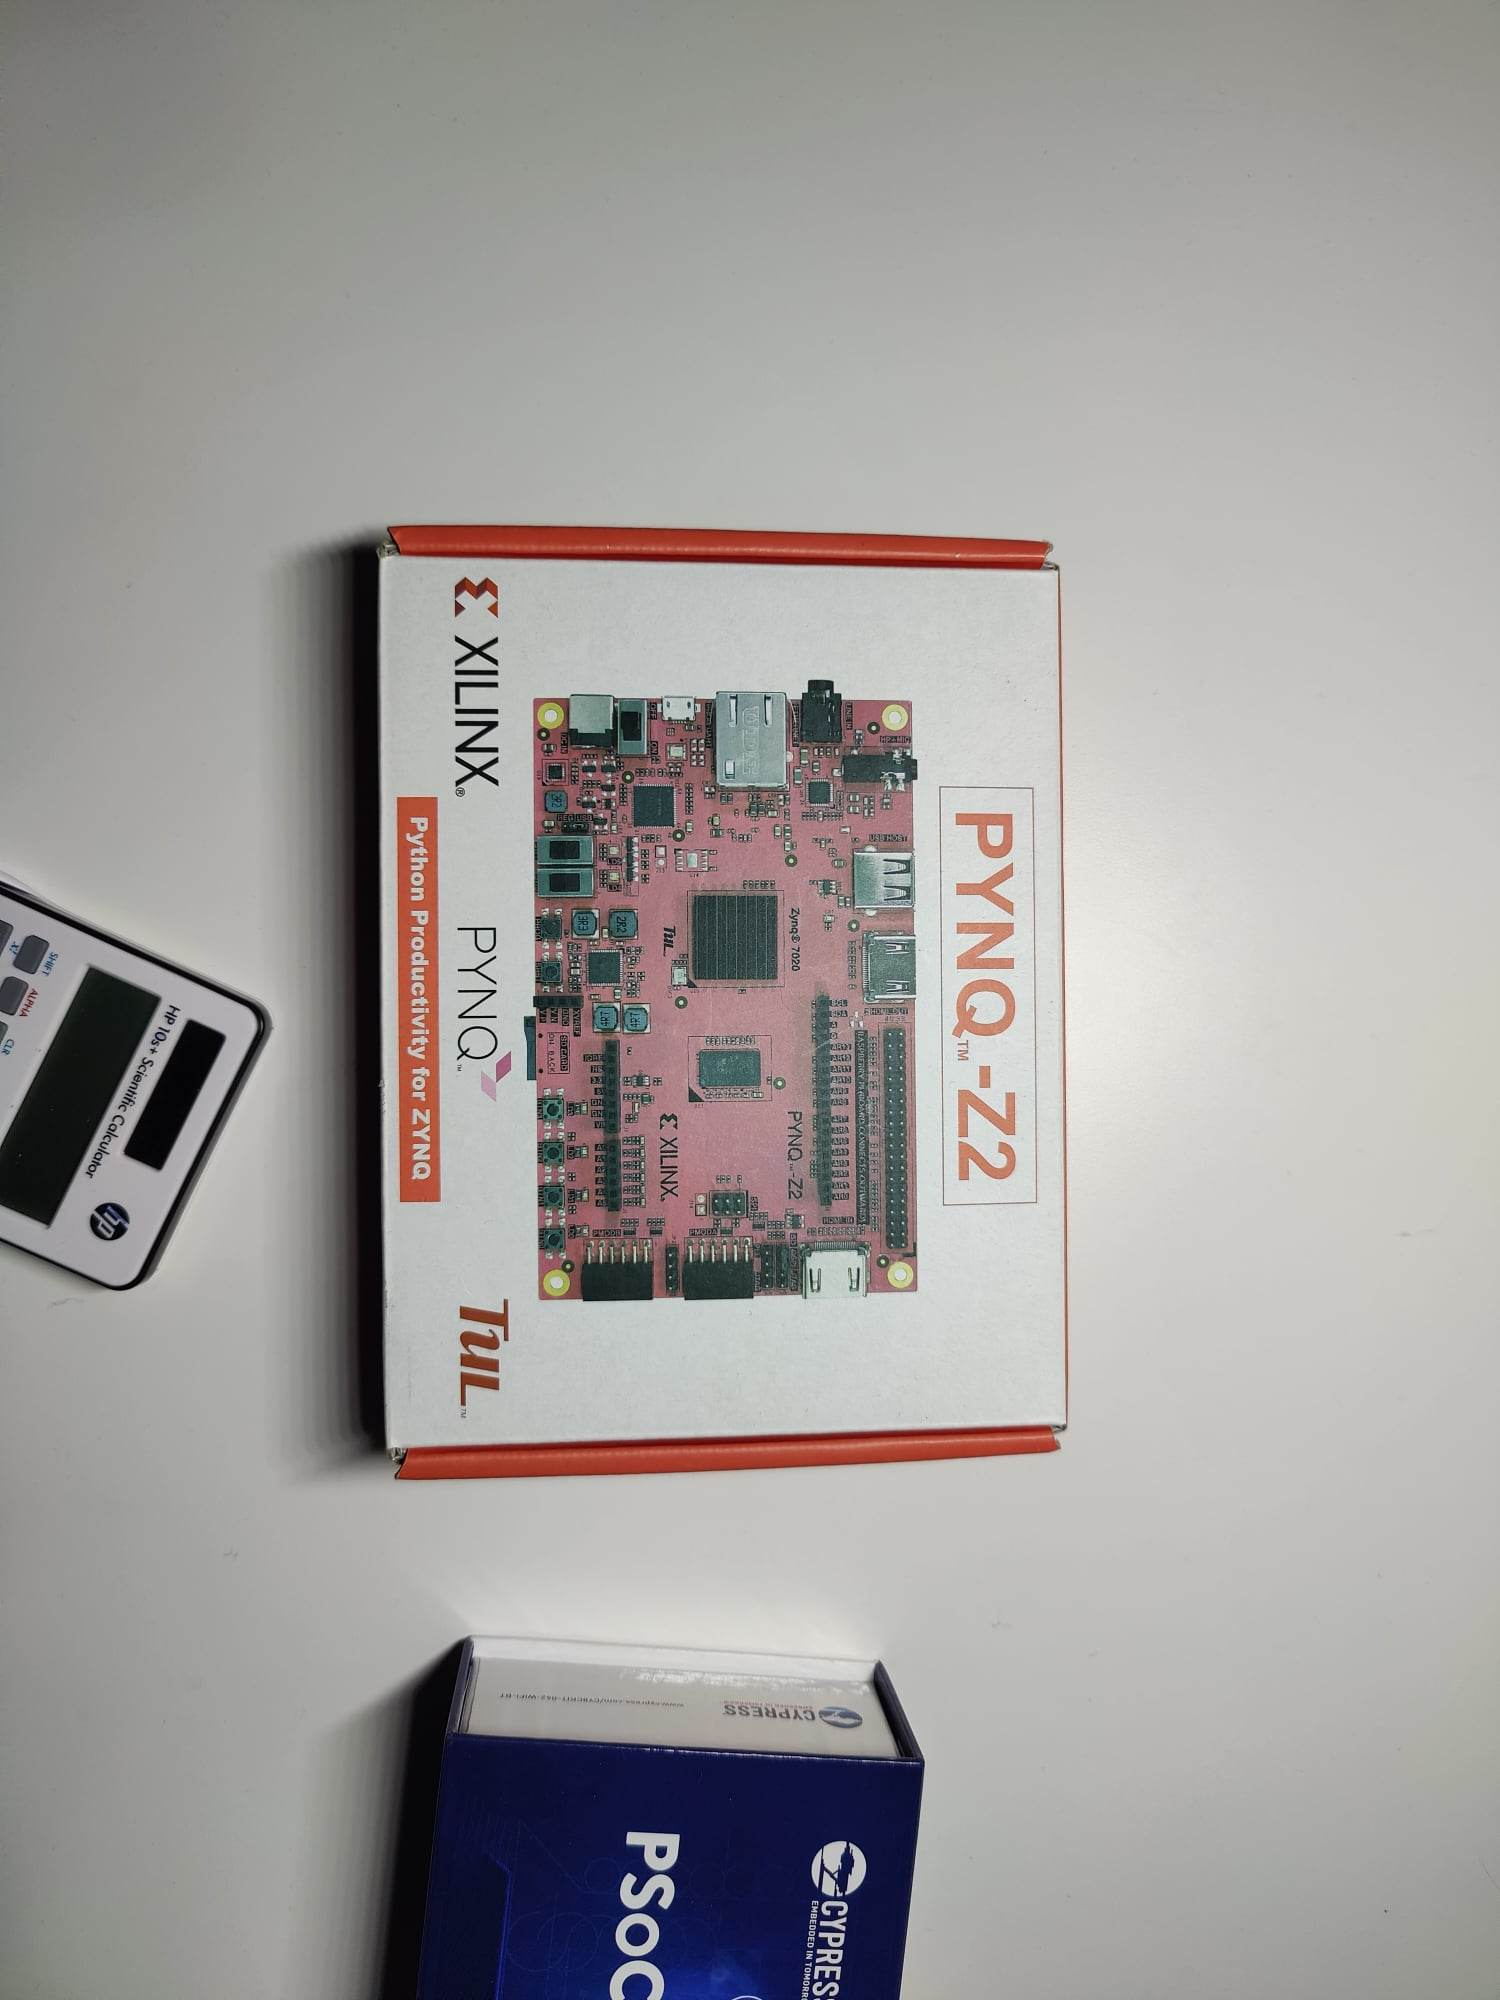PYNQ doos: (312, 487, 1125, 1524)
